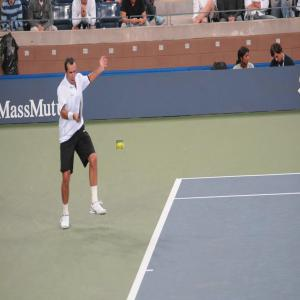TennisBall: (117, 141, 125, 151)
